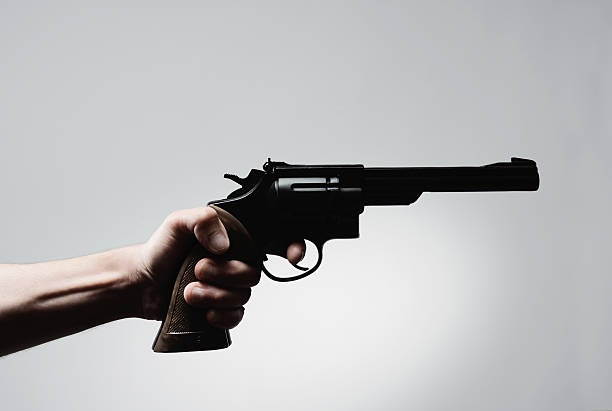pistol: (150, 156, 542, 355)
